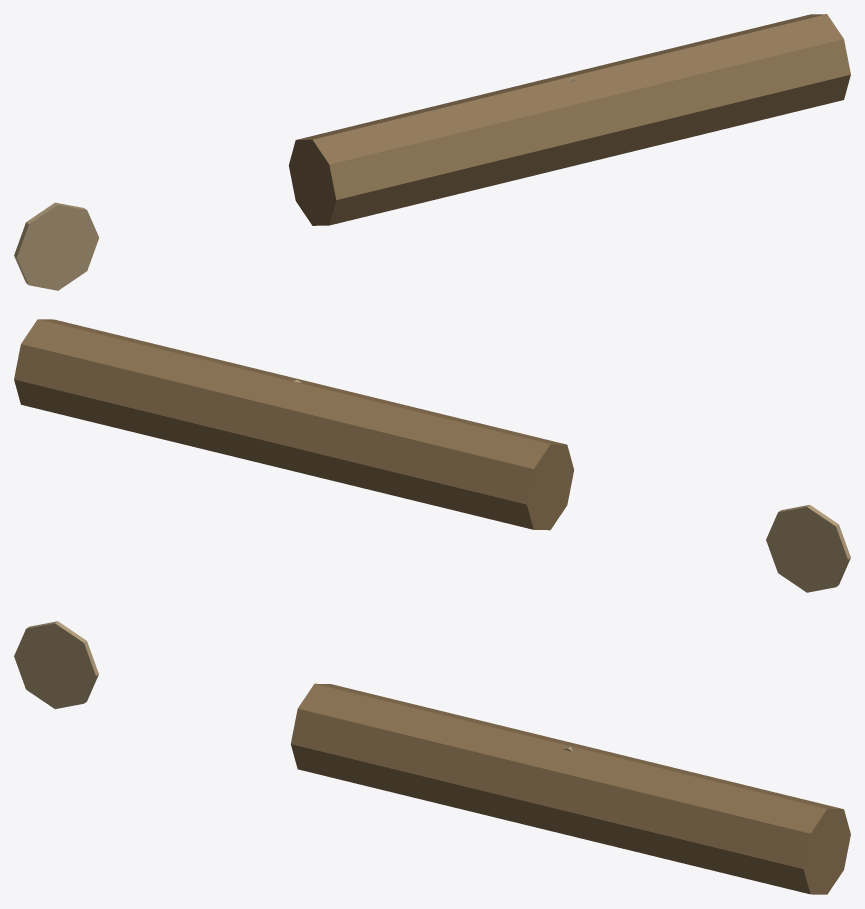
Rendered from log.glb.
3 views of the same model, one above another, from view 1: azimuth 30°, elevation 25°; view 2: azimuth 150°, elevation 25°; view 3: azimuth 330°, elevation 25° (orthographic).
Parts seen in each view (by area): view 1: geometry_0; view 2: geometry_0; view 3: geometry_0.
Boxes of the visible parts, <box> form: geometry_0: <box>14,14,850,290</box>; geometry_0: <box>14,319,850,592</box>; geometry_0: <box>14,621,850,894</box>.
Bounding box in the file's own units: 1.58 × 0.16 × 0.16.
